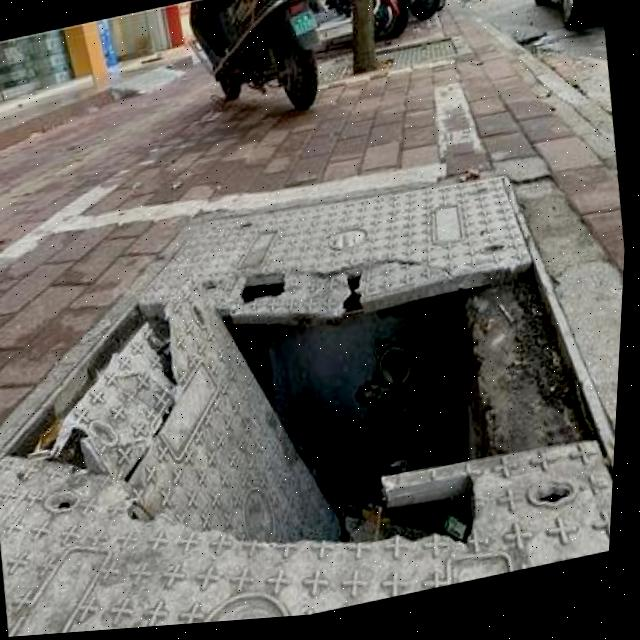manhole: (0, 145, 633, 640)
